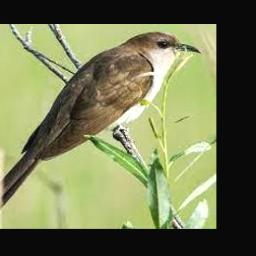Cuckoo: (0, 31, 201, 223)
